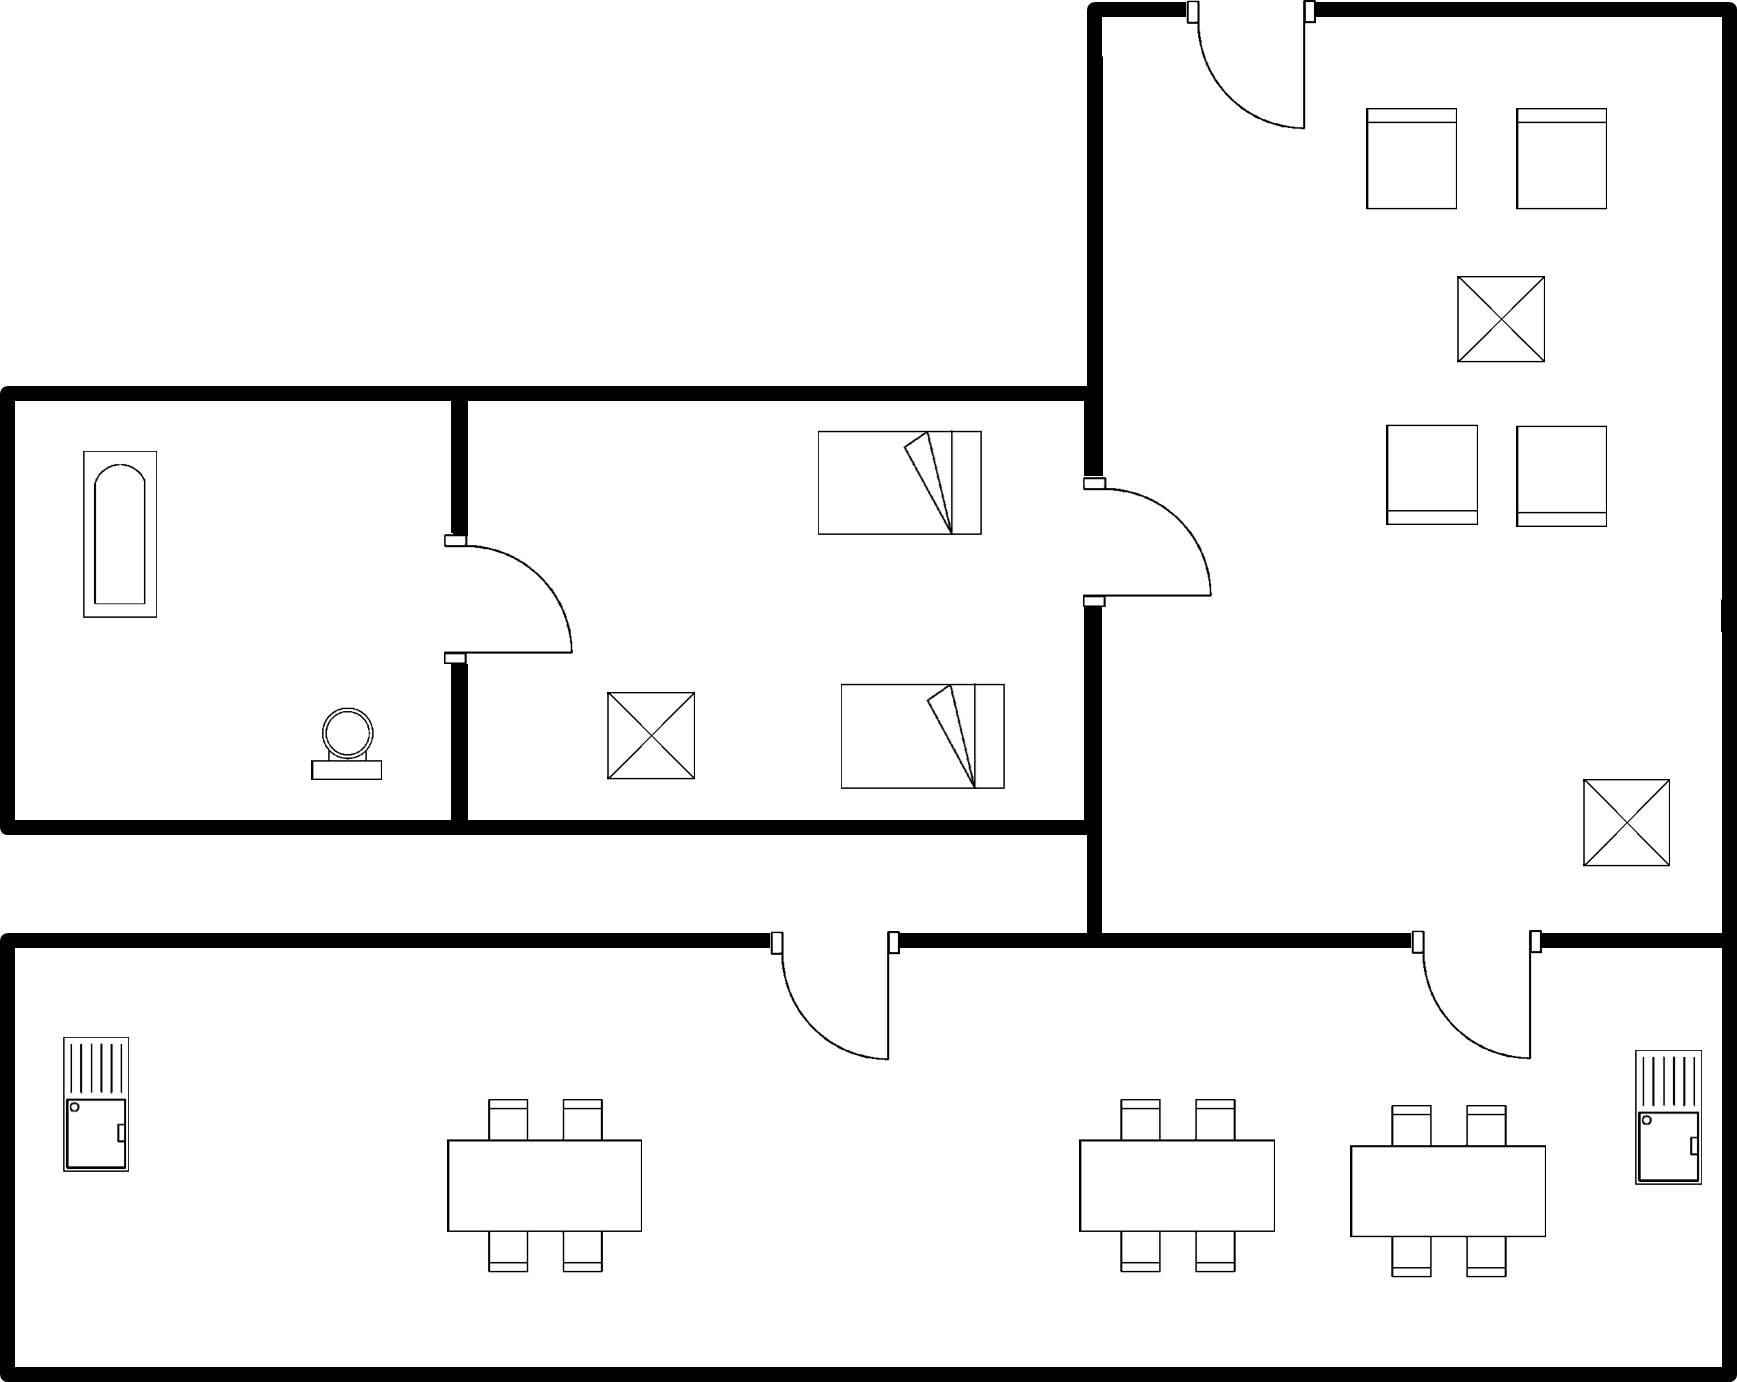bed: (805, 420, 994, 546), (828, 673, 1017, 798)
coffee_table: (1449, 265, 1556, 373), (1574, 770, 1681, 879), (598, 682, 705, 788)
dining_table: (1060, 1084, 1289, 1282), (1335, 1092, 1558, 1293), (437, 1088, 654, 1282)
large_sink: (301, 698, 391, 792)
sink: (54, 1027, 141, 1185), (1625, 1038, 1712, 1196)
small_sofa: (1505, 94, 1622, 223), (1506, 417, 1621, 539), (1377, 417, 1490, 539), (1358, 97, 1464, 219)
tub: (72, 442, 172, 629)
